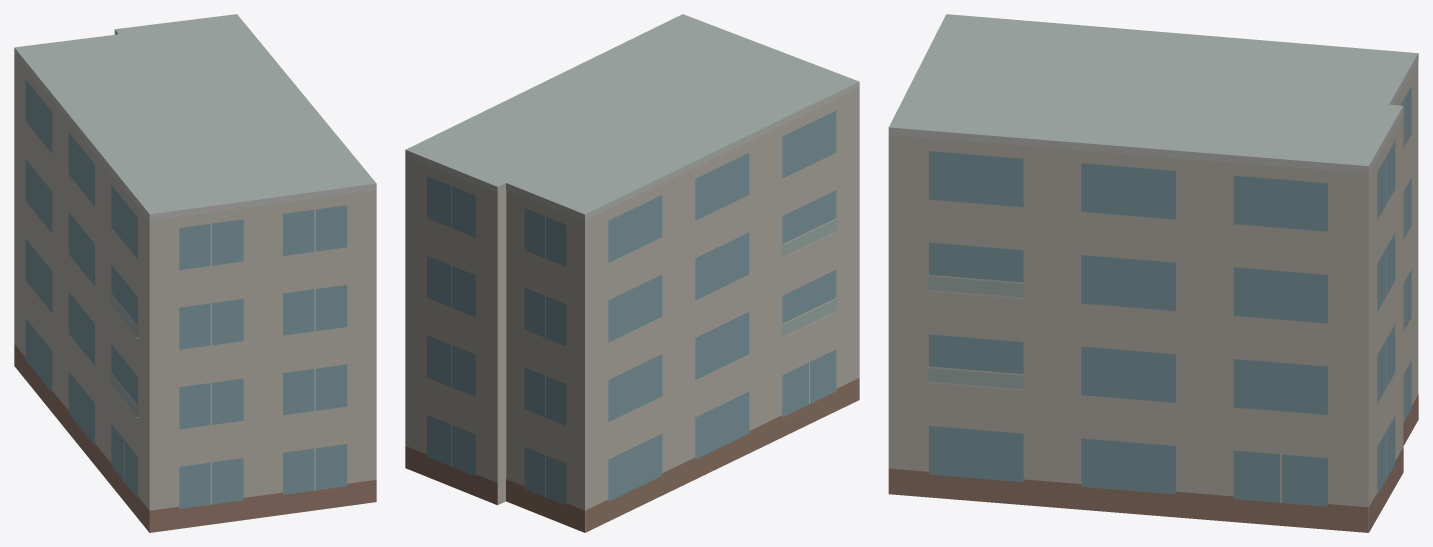
Rendered from survey-upis-32906295.glb.
The picture shows the model from 3 angles, left to right: view 1: azimuth 30°, elevation 25°; view 2: azimuth 150°, elevation 25°; view 3: azimuth 270°, elevation 25°; orthographic projection. The views are drawn at different scales.
Visible parts, largest first — view 1: survey-upis-32906295.tmp; view 2: survey-upis-32906295.tmp; view 3: survey-upis-32906295.tmp.
Part boxes in pixels (x1,y1,x2,y2): survey-upis-32906295.tmp: (14, 14, 376, 532); survey-upis-32906295.tmp: (405, 14, 859, 532); survey-upis-32906295.tmp: (888, 14, 1418, 532).
Bounding box in the file's own units: 10.69 × 12 × 15.72.
